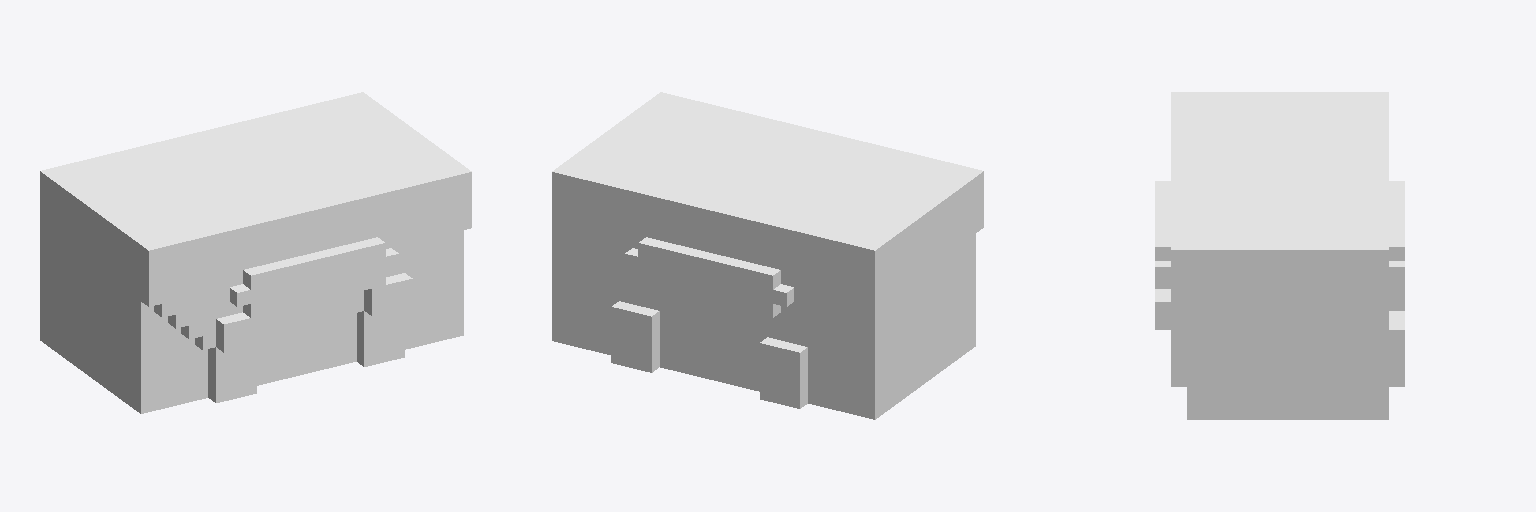
Rendered from xpulbx.obj.
The picture shows the model from 3 angles: view 1: azimuth 30°, elevation 25°; view 2: azimuth 150°, elevation 25°; view 3: azimuth 270°, elevation 25°; orthographic projection.
Visible parts, largest first — view 1: FKITA0; view 2: FKITA0; view 3: FKITA0.
Part boxes in pixels (bbox=[...]): FKITA0: bbox=[40, 92, 471, 413]; FKITA0: bbox=[552, 92, 983, 419]; FKITA0: bbox=[1155, 92, 1404, 419].
Size of the model in its own units: 2.4 by 1.2 by 1.6.